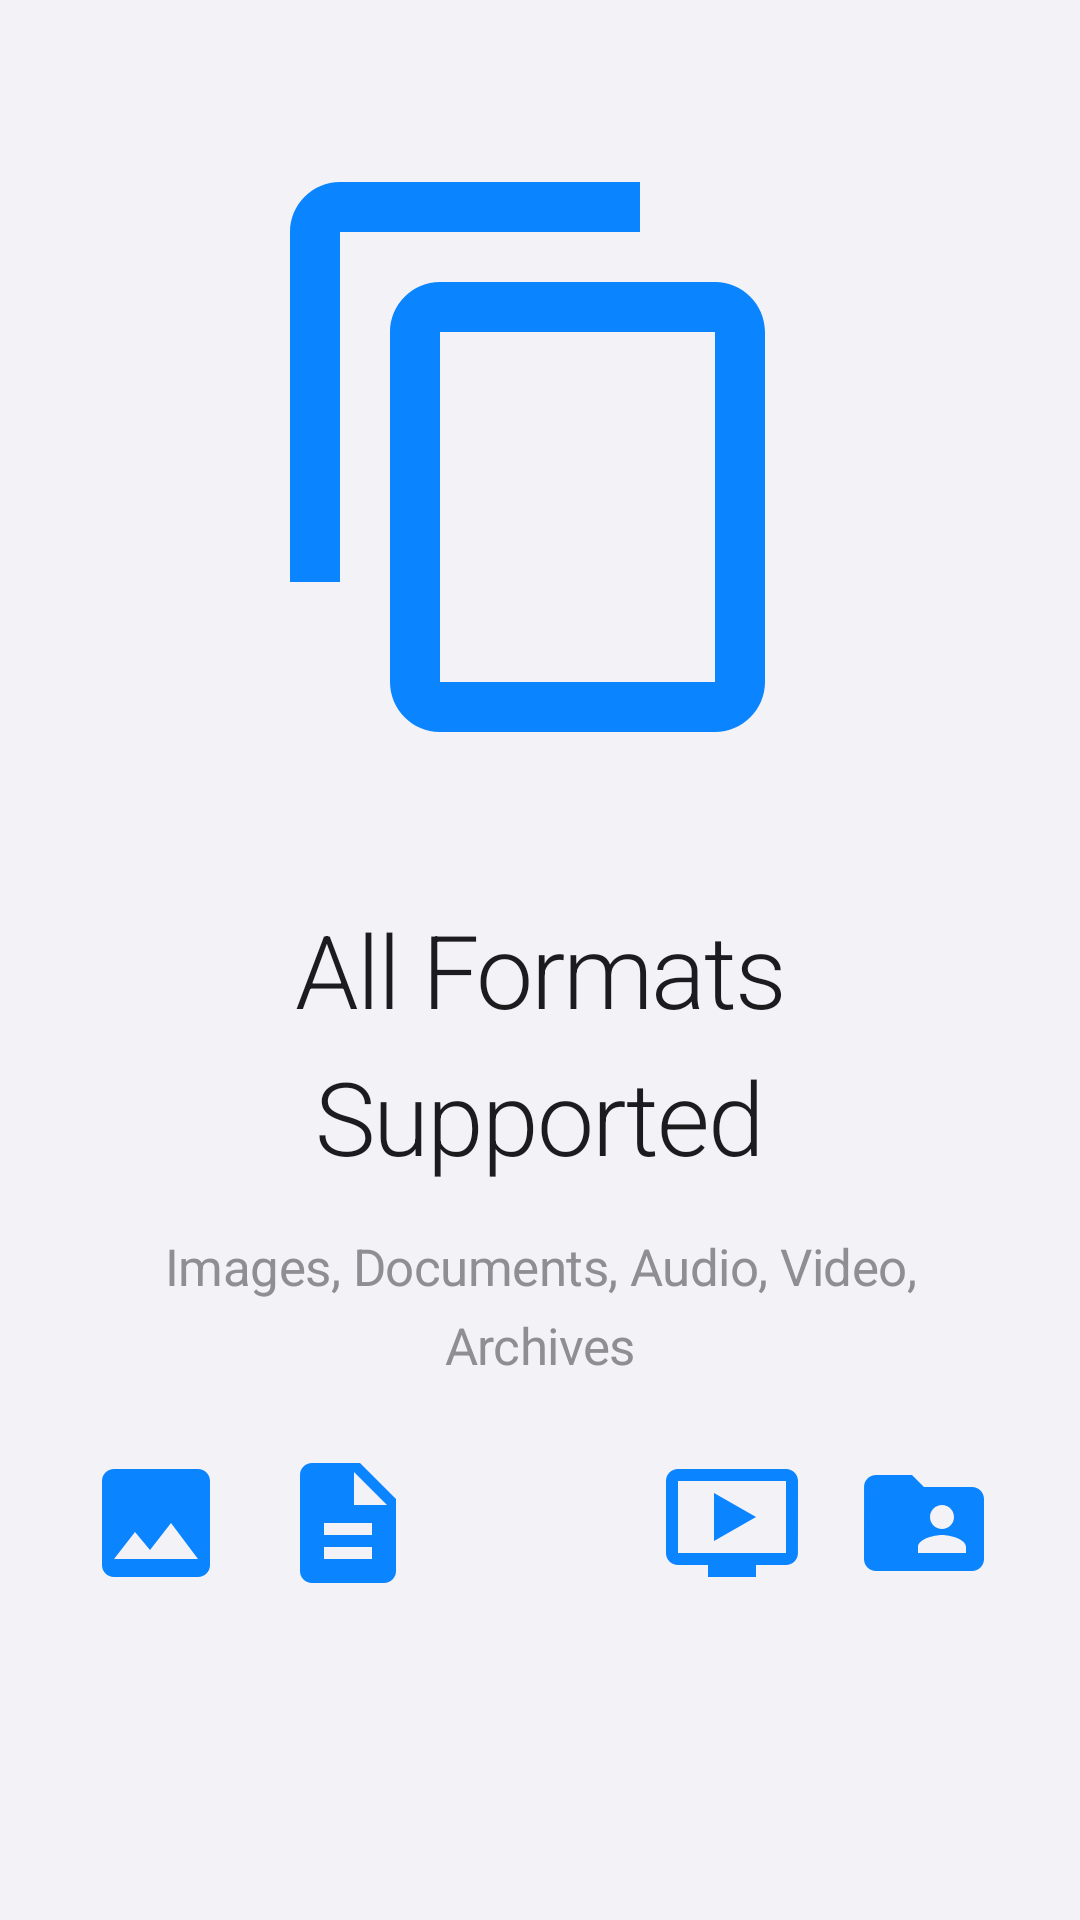

Locate icon controls on the screen. Image size 1080px×1920px, boxes as (x1,y1,x2,y2).
Document format: (300,1463,396,1583)
Image format: (102,1469,210,1577)
Video format: (666,1469,798,1577)
